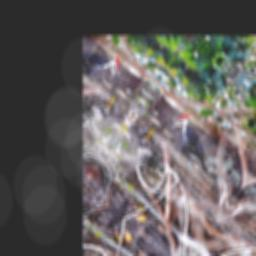Woodpecker: (162, 106, 232, 176)
